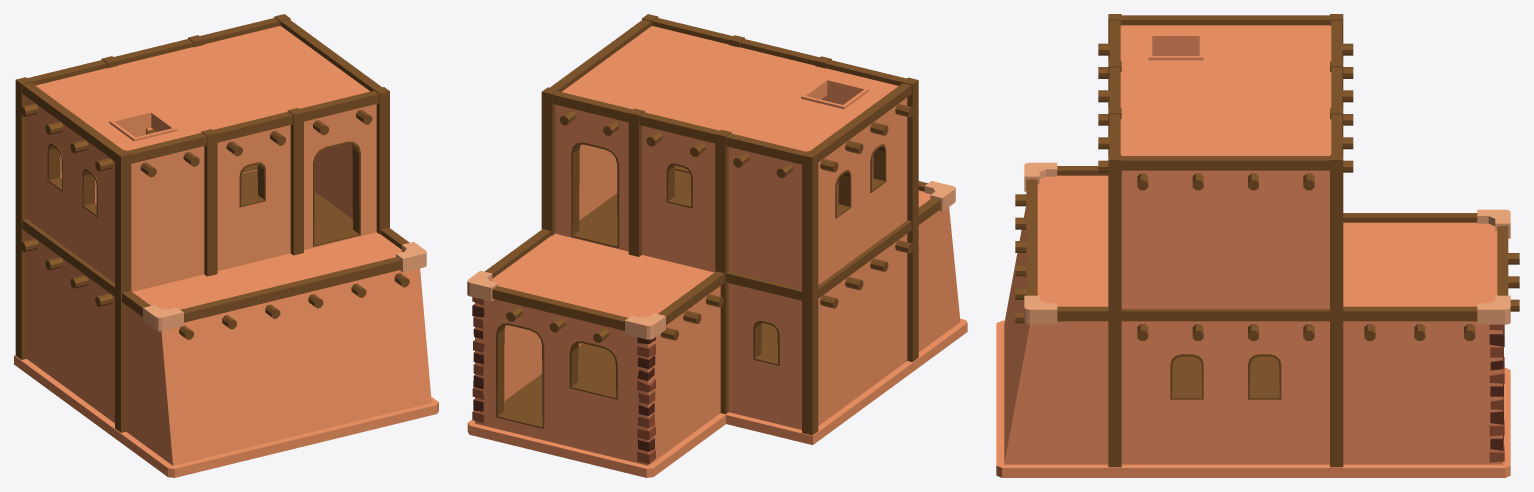
Rendered from House.002.fbx.
3 views of the same model, side by side, from view 1: azimuth 30°, elevation 25°; view 2: azimuth 150°, elevation 25°; view 3: azimuth 270°, elevation 25° (orthographic). The views are drawn at different scales.
Parts seen in each view (by area): view 1: NewHouse.002; view 2: NewHouse.002; view 3: NewHouse.002.
Boxes of the visible parts, x1,y1,x2,y2 form: NewHouse.002: (14,14,438,477); NewHouse.002: (467,14,967,477); NewHouse.002: (996,14,1519,477).
Size of the model in its own units: 6.6 by 6.32 by 9.44.
